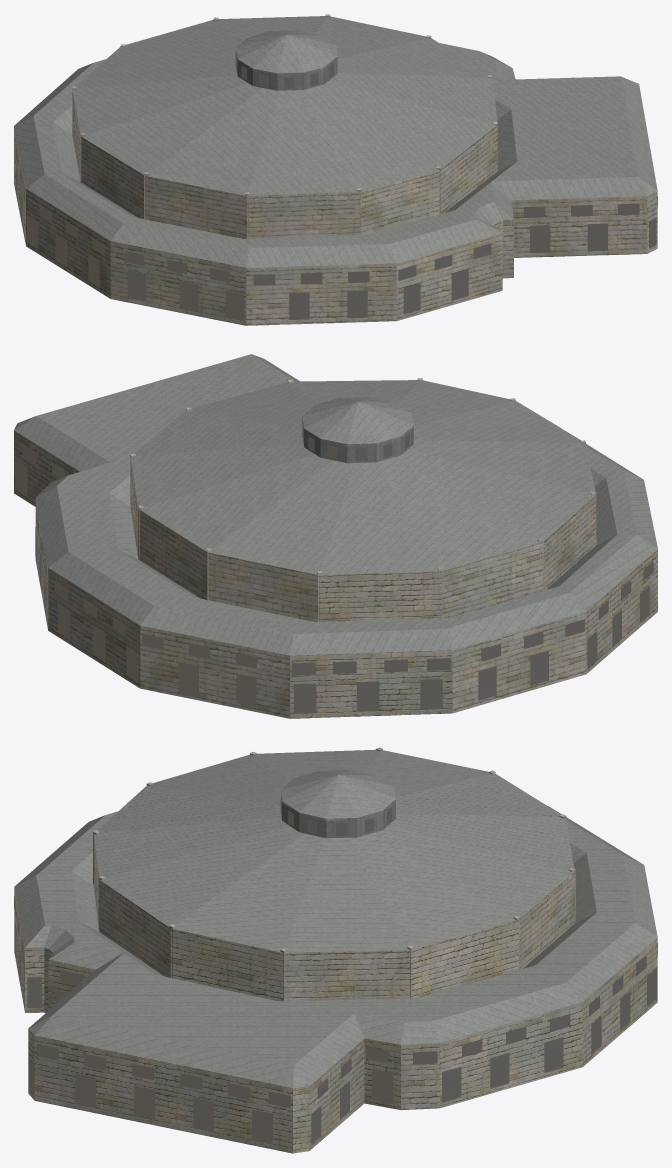
Rendered from theatre-marigny.glb.
3 renders of one model, top to bottom at view 1: azimuth 30°, elevation 25°; view 2: azimuth 150°, elevation 25°; view 3: azimuth 270°, elevation 25°, orthographic. The views are drawn at different scales.
Visible parts, largest first — view 1: roof, stone, window, trim; view 2: roof, stone, window, trim; view 3: roof, stone, window, trim.
Part boxes in pixels (box(x1,y1,x2,y2)): roof: box(14, 16, 657, 267); stone: box(14, 92, 657, 325); window: box(16, 55, 657, 320); trim: box(14, 14, 657, 289); roof: box(14, 354, 657, 655); stone: box(14, 430, 657, 718); window: box(15, 425, 653, 713); trim: box(14, 378, 654, 679); roof: box(14, 749, 657, 1088); stone: box(14, 837, 657, 1153); window: box(14, 799, 657, 1144); trim: box(14, 747, 657, 1112).
Size of the model in its own units: 51.36 by 15 by 44.71.
4 materials, 4 textured.
